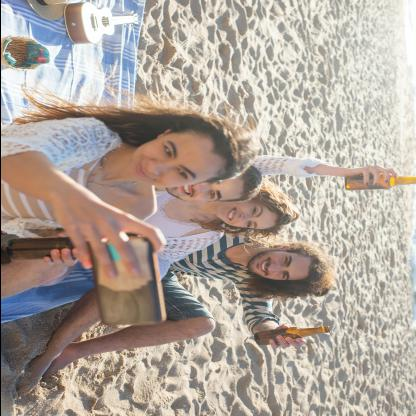Eye: (159, 146, 174, 160), (174, 168, 188, 180), (249, 206, 260, 216), (206, 189, 216, 199), (244, 220, 255, 228), (281, 256, 290, 265), (279, 271, 287, 279)
Mouth: (134, 160, 148, 180), (256, 257, 271, 275), (224, 206, 238, 221), (178, 183, 192, 198)
Nose: (144, 159, 172, 175), (192, 182, 210, 194), (266, 264, 283, 274), (236, 214, 250, 222)
